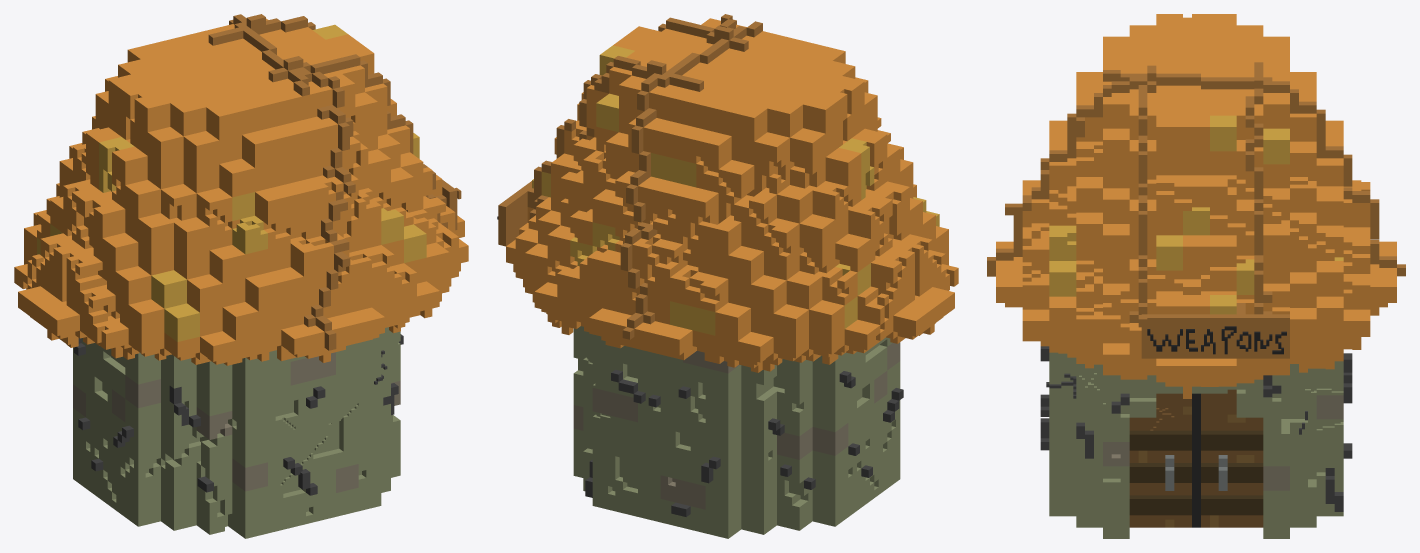
The model's file is thatch.obj.
3 views of the same model, side by side, from view 1: azimuth 30°, elevation 25°; view 2: azimuth 150°, elevation 25°; view 3: azimuth 270°, elevation 25° (orthographic). The views are drawn at different scales.
Size of the model in its own units: 16.2 by 15.9 by 14.1.
